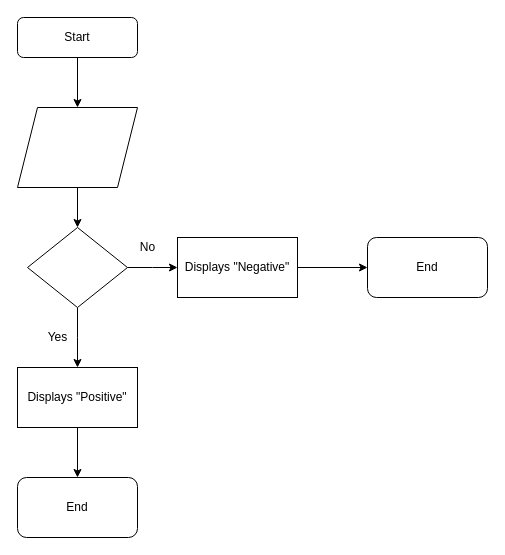
Some shapes in this 505 by 555 pixel diagram are drawn without their labels. Here are the shapes that lost their labels. From the top down, the centre of each, then its label:
pixel 77 147: User inputs number
pixel 77 267: Is it a positive number?
